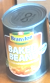beans: (2, 2, 50, 82)
